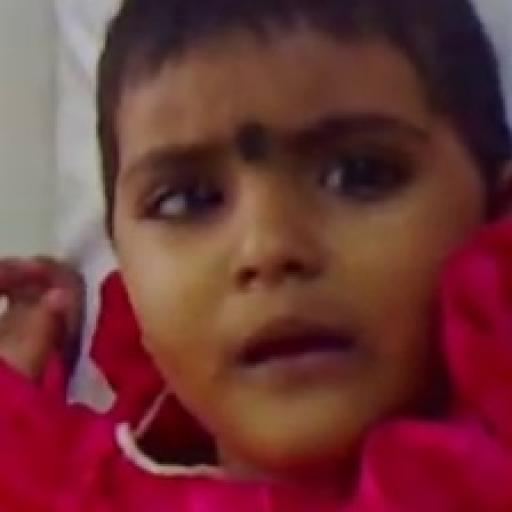Autism: (94, 5, 512, 485)
